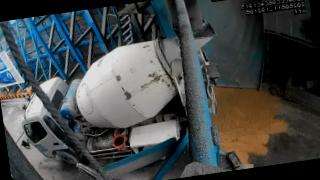cement_mixer_truck: (22, 17, 229, 164)
